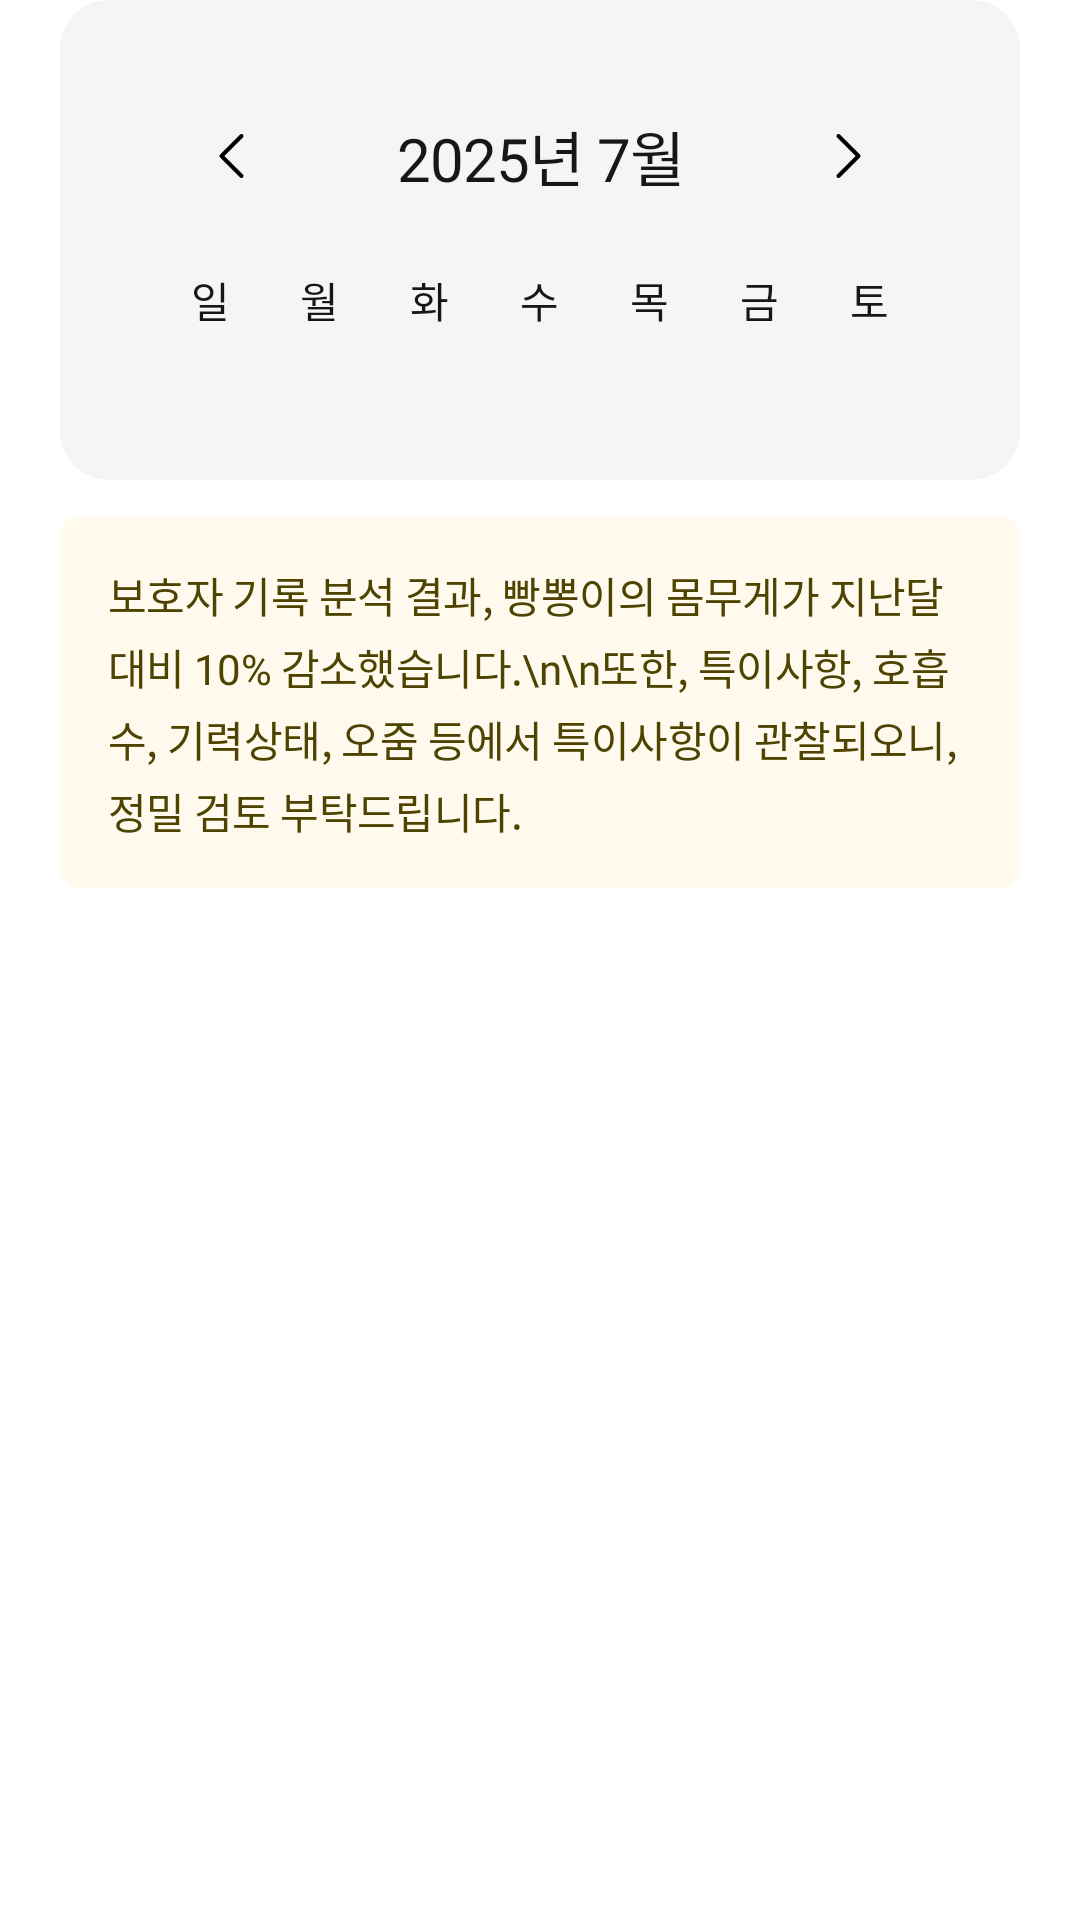

Named icons in this screenshot (1080x1920) and their centers, point (x, y):
chevron left: point (231, 156)
chevron right: point (848, 156)
